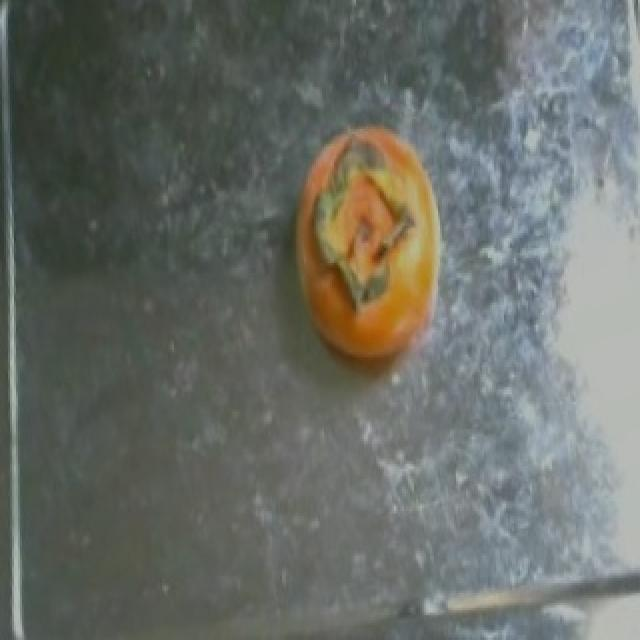Fruit: (272, 104, 464, 390)
